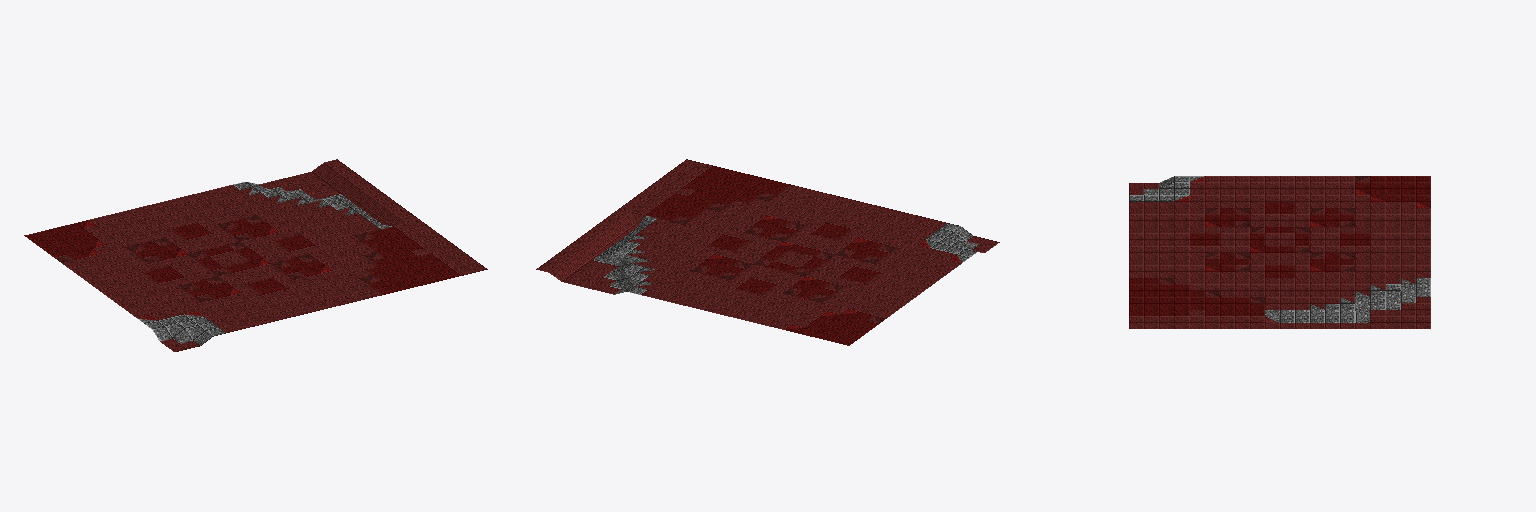
3 views of the same model, side by side, from view 1: azimuth 30°, elevation 25°; view 2: azimuth 150°, elevation 25°; view 3: azimuth 270°, elevation 25° (orthographic).
Visible parts, largest first — view 1: FloorSide_1; view 2: FloorSide_1; view 3: FloorSide_1.
Part boxes in pixels (left/top/right/bottom): FloorSide_1: left=24, top=159, right=487, bottom=351; FloorSide_1: left=536, top=159, right=999, bottom=345; FloorSide_1: left=1129, top=176, right=1430, bottom=328.
Size of the model in its own units: 24 by 0.5018 by 20.
Materials: 12 (12 with a texture image).